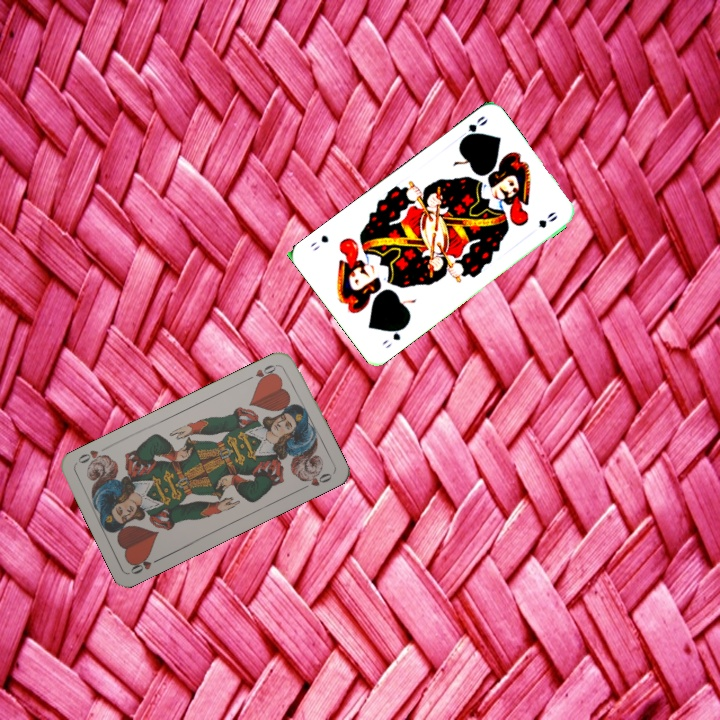GO: (454, 112, 490, 144), (377, 321, 409, 351)
HO: (243, 360, 281, 386), (126, 552, 165, 577)
